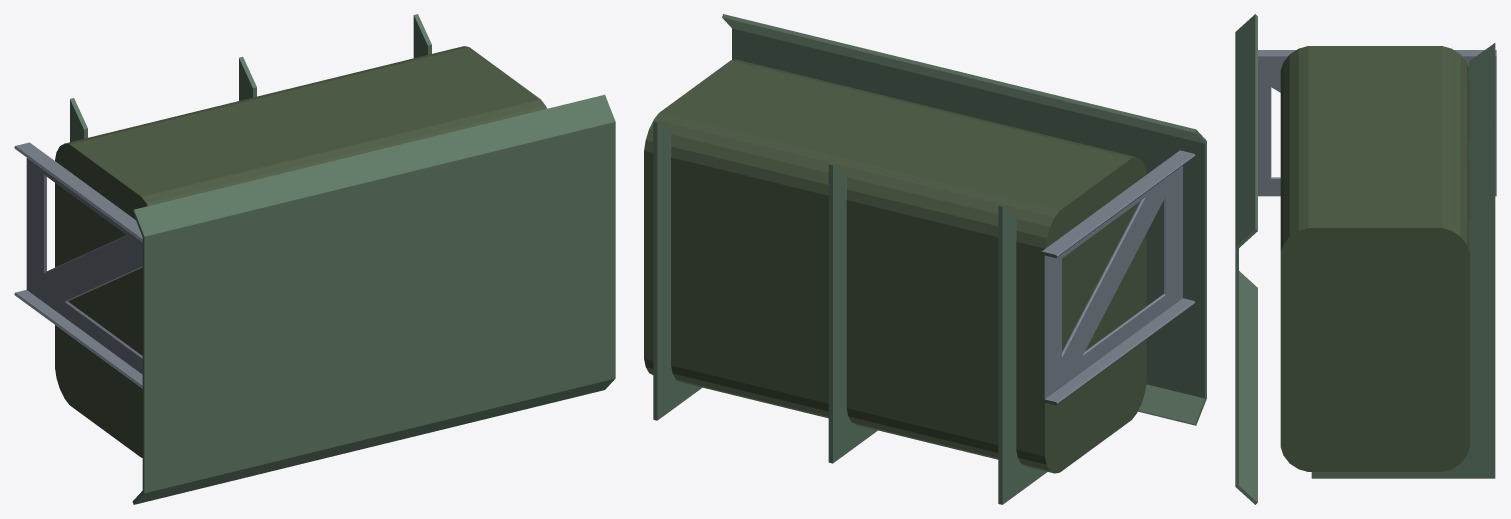
The model's file is Track_full_003_track.fbx.
The picture shows the model from 3 angles, left to right: view 1: azimuth 30°, elevation 25°; view 2: azimuth 150°, elevation 25°; view 3: azimuth 270°, elevation 25°; orthographic projection. The views are drawn at different scales.
Visible parts, largest first — view 1: Track_full.003.track; view 2: Track_full.003.track; view 3: Track_full.003.track.
Boxes of the visible parts, x1=… form: Track_full.003.track: x1=14, y1=14, x2=615, y2=504; Track_full.003.track: x1=644, y1=14, x2=1206, y2=504; Track_full.003.track: x1=1235, y1=14, x2=1496, y2=504.
Size of the model in its own units: 1.57 by 0.9479 by 0.8082.
